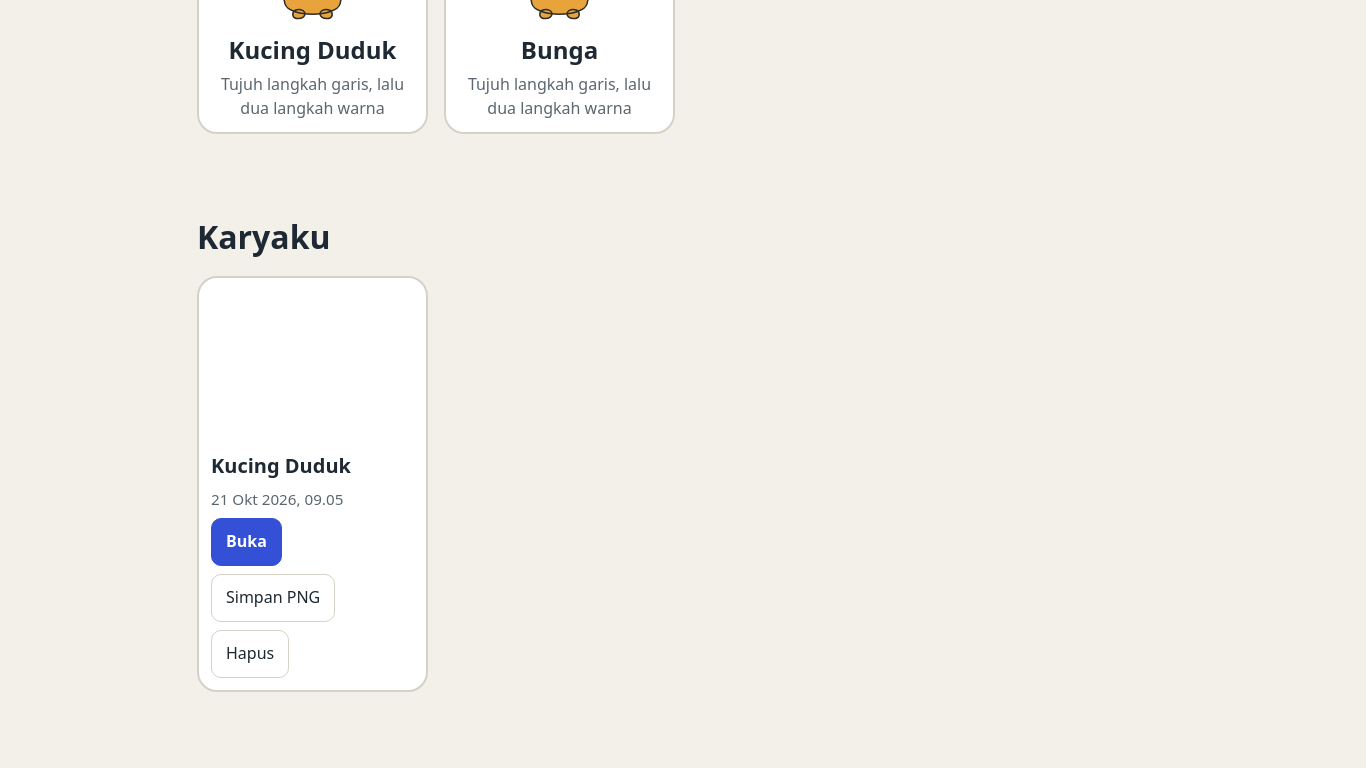
Scenario: lesson picker › lists a free-drawing session in Karyaku and reopens it without the guide
(page scrolled)
Click the button with aria-label "Buka Kucing Duduk" at [246, 542], box [211,518,282,566]
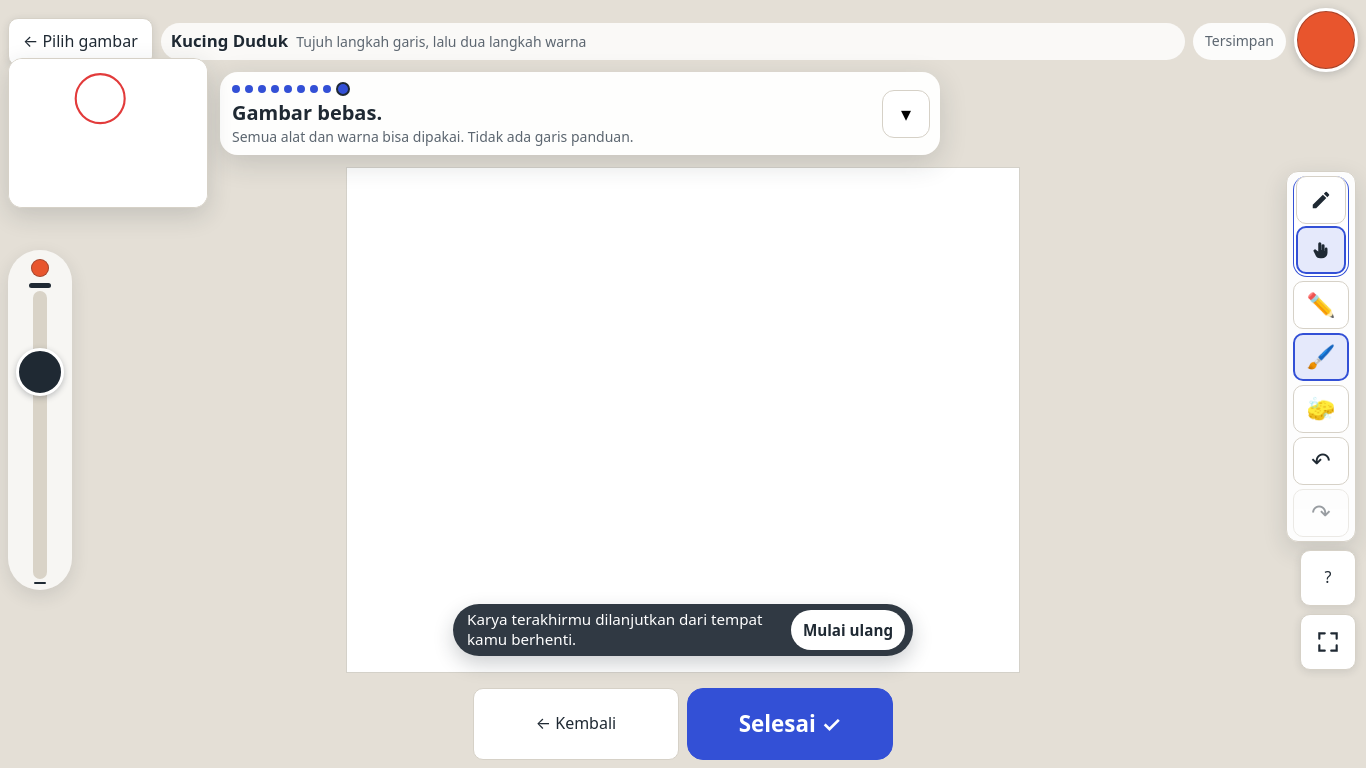
Expected: the heading "Gambar bebas." is shown, [232,99,382,126]
Expected: the heading "Karyaku" is gone
